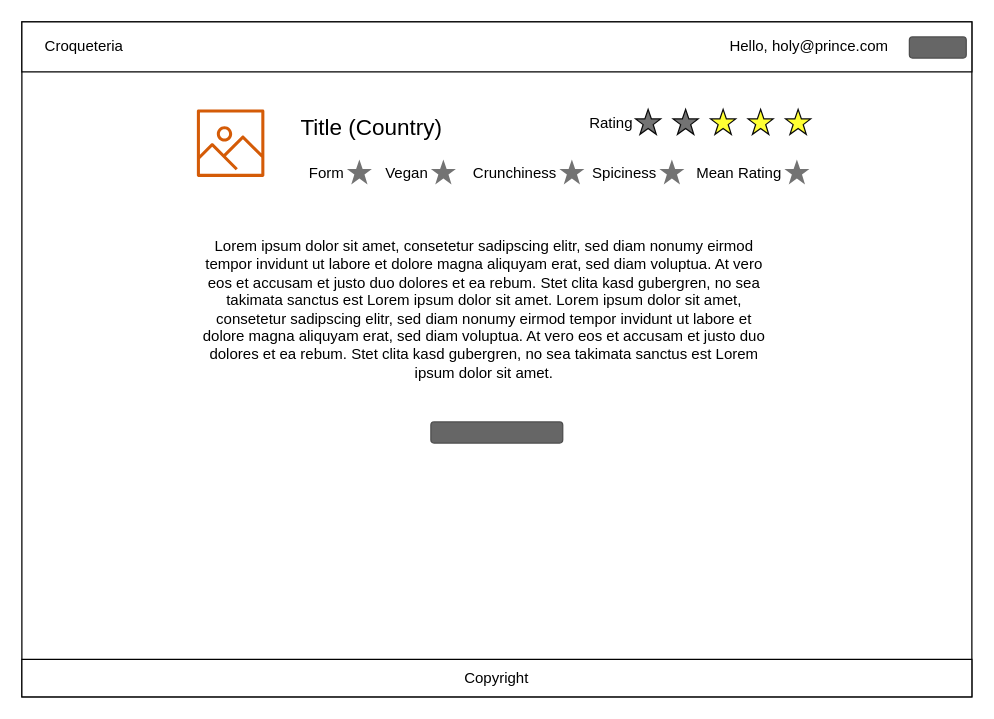
This 994x719 diagram has some shape labels left out. The centre of each missing label's shape, as x and y in pixels:
Find recipes: the point at 496,432
logout: the point at 937,47
